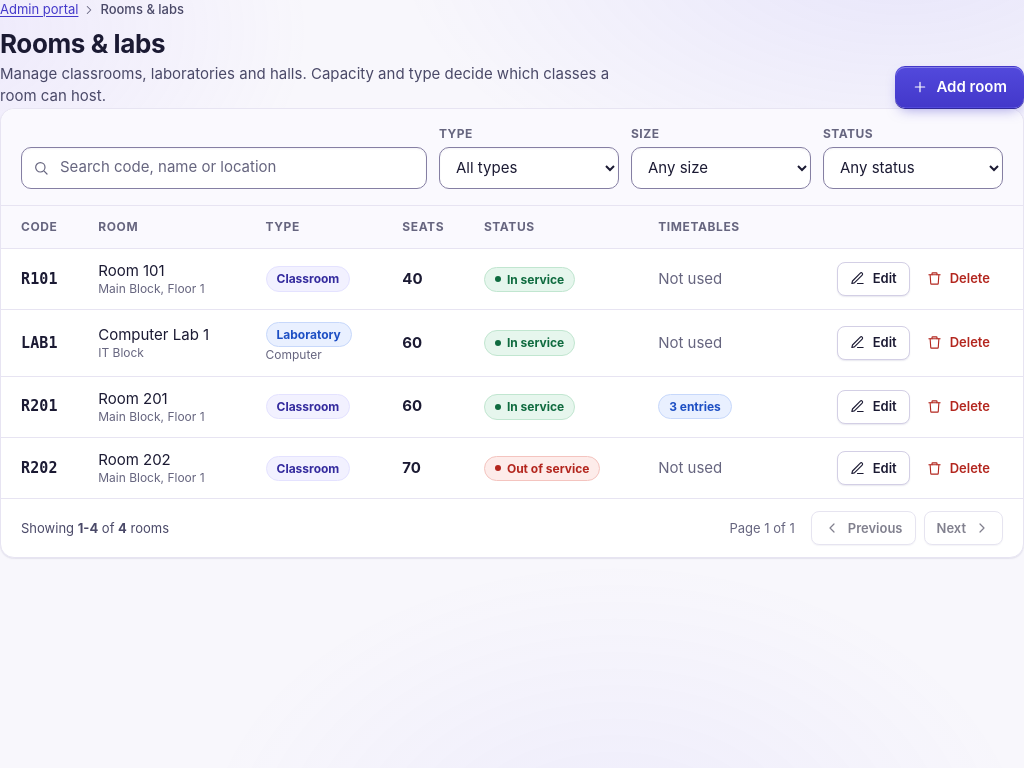
Test: Rooms screen - edit (PRA-TC03) › prefills a free room and saves a new capacity and type
Step 1. Click the button with aria-label "Edit R101 Room 101" → [873, 279], box [837,262,910,296]
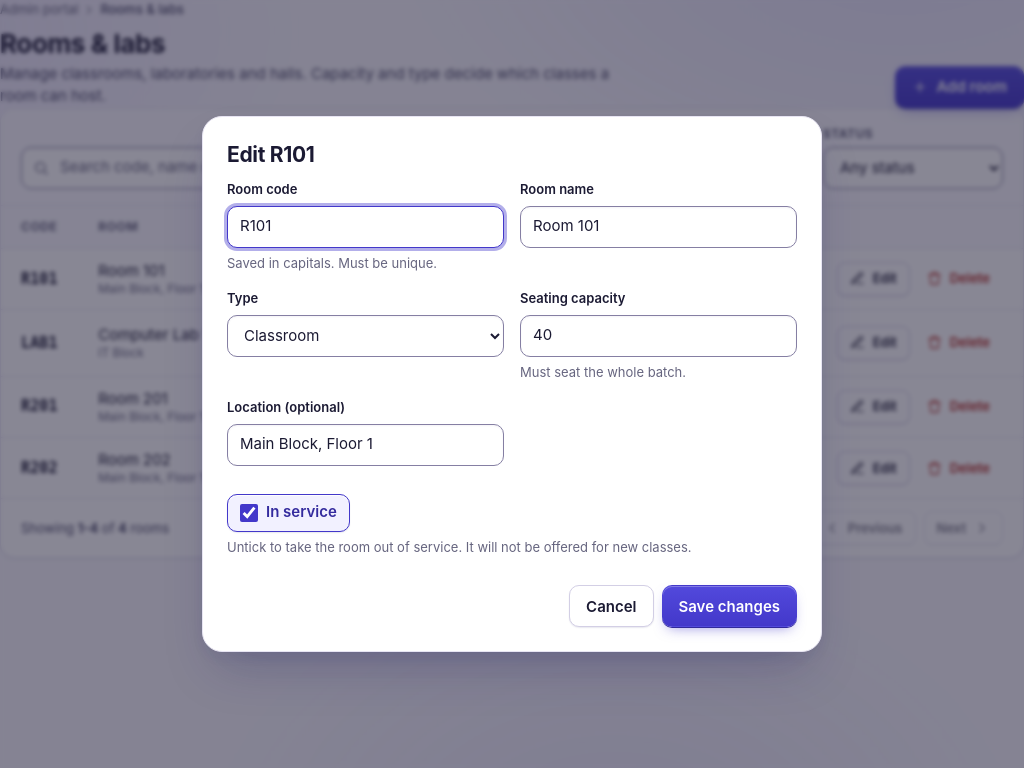
Result: the number field labelled "Seating capacity" holds "40"
Result: the dropdown labelled "Type" is enabled at [227,315,504,357]
Step 2. Replace the text in the number field labelled "Seating capacity" with "55" → [658, 336], box [520,315,797,357]
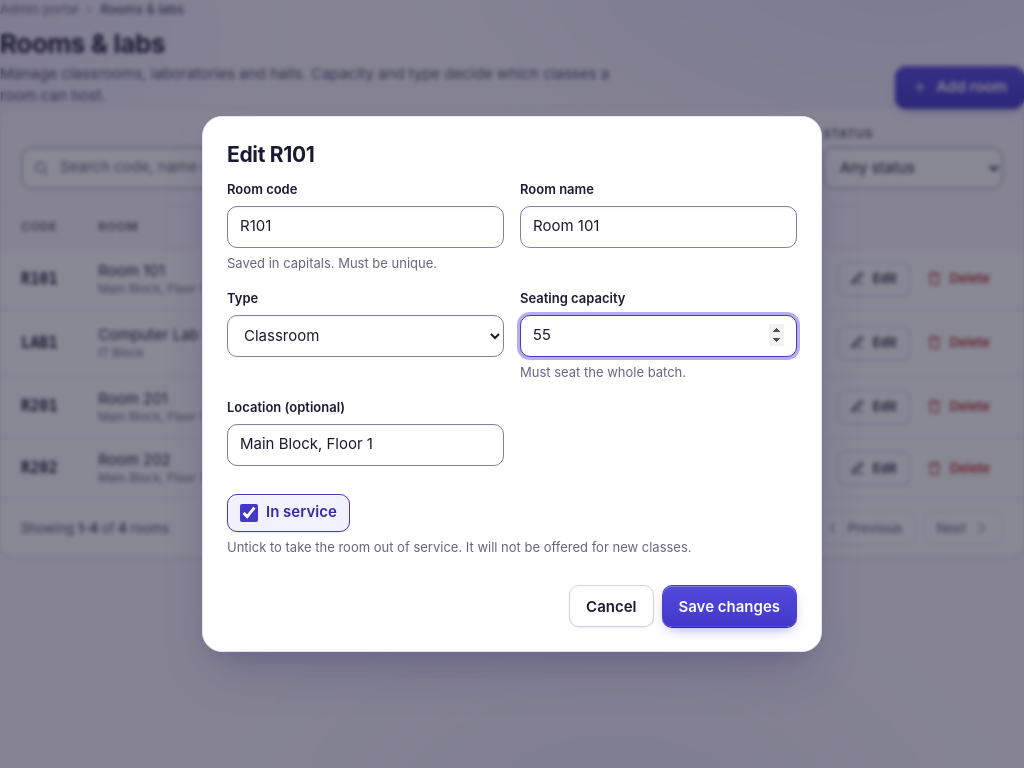
Step 3. Click the button "Save changes" → [729, 606], box [662,585,797,627]
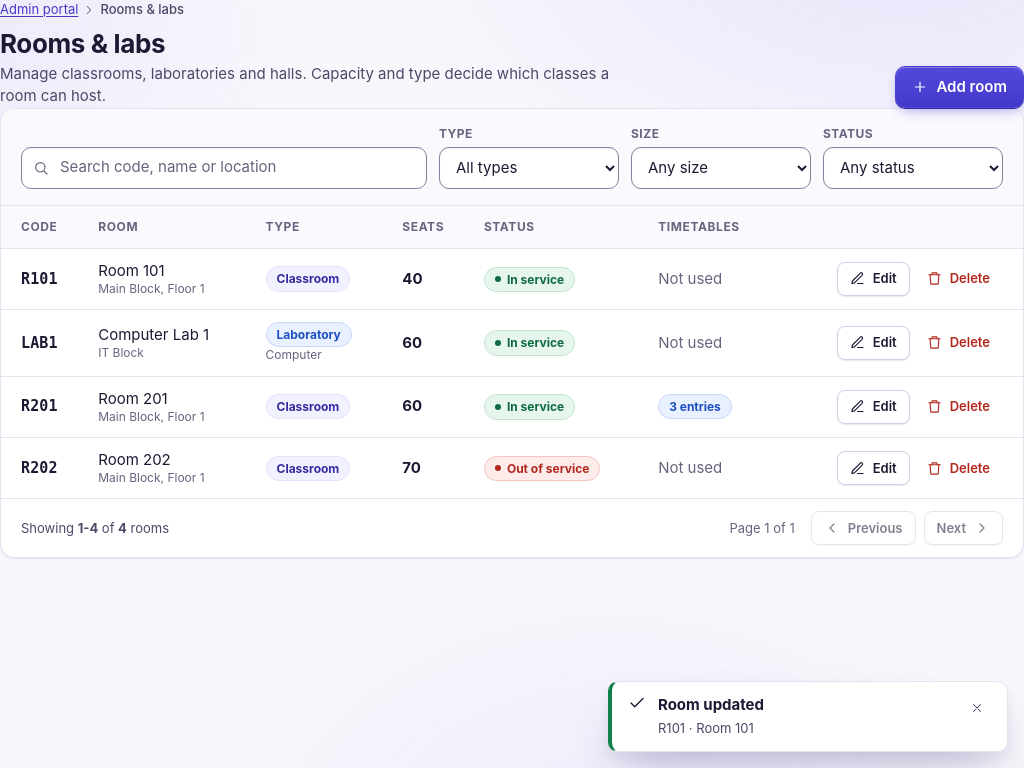
Result: the text "Room updated" is shown at [658,694,764,716]
